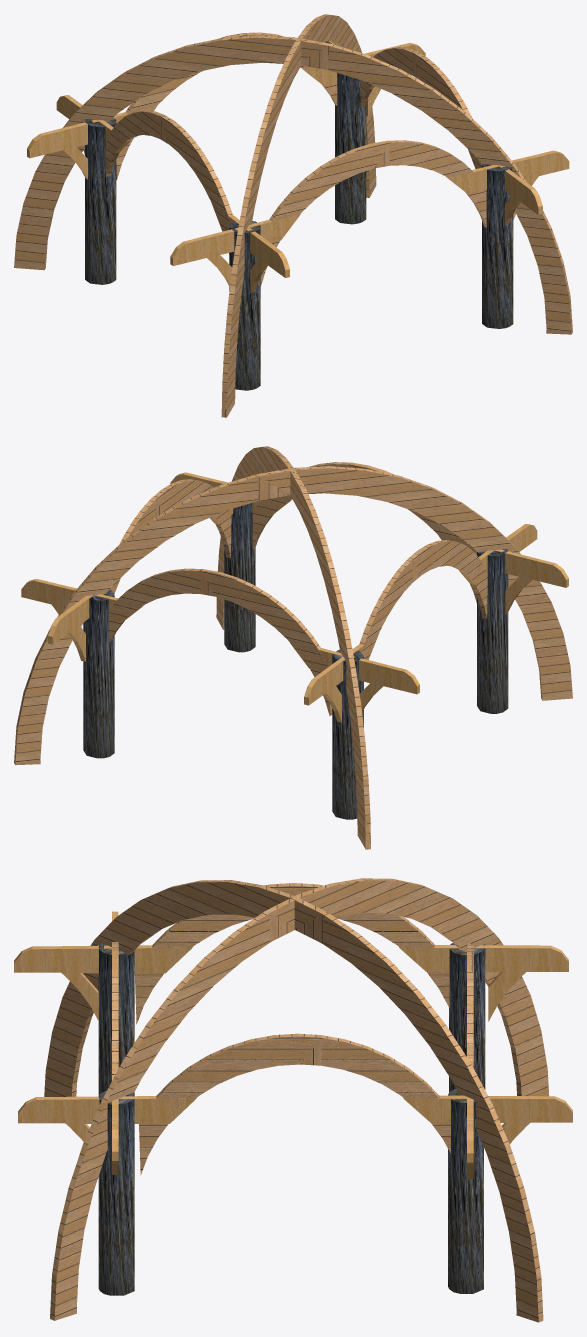
File: main_stage_water_feature.glb
3 renders of one model, top to bottom at view 1: azimuth 30°, elevation 25°; view 2: azimuth 150°, elevation 25°; view 3: azimuth 270°, elevation 25°, orthographic. The views are drawn at different scales.
Visible parts, largest first — view 1: Object_3, Object_5, Object_4, Object_2; view 2: Object_3, Object_5, Object_4, Object_2; view 3: Object_3, Object_5, Object_2, Object_4.
Boxes of the visible parts, left/top/right/bottom form: Object_3: left=14, top=14, right=572, bottom=417; Object_5: left=85, top=73, right=513, bottom=390; Object_4: left=105, top=32, right=486, bottom=286; Object_2: left=27, top=41, right=569, bottom=293; Object_3: left=14, top=446, right=572, bottom=849; Object_5: left=83, top=502, right=508, bottom=819; Object_4: left=109, top=462, right=487, bottom=716; Object_2: left=21, top=472, right=568, bottom=722; Object_3: left=44, top=878, right=549, bottom=1322; Object_5: left=98, top=943, right=485, bottom=1295; Object_2: left=14, top=911, right=572, bottom=1178; Object_4: left=112, top=883, right=473, bottom=1175.
Size of the model in its own units: 5.61 by 3.57 by 5.62.
4 materials, 4 textured.
